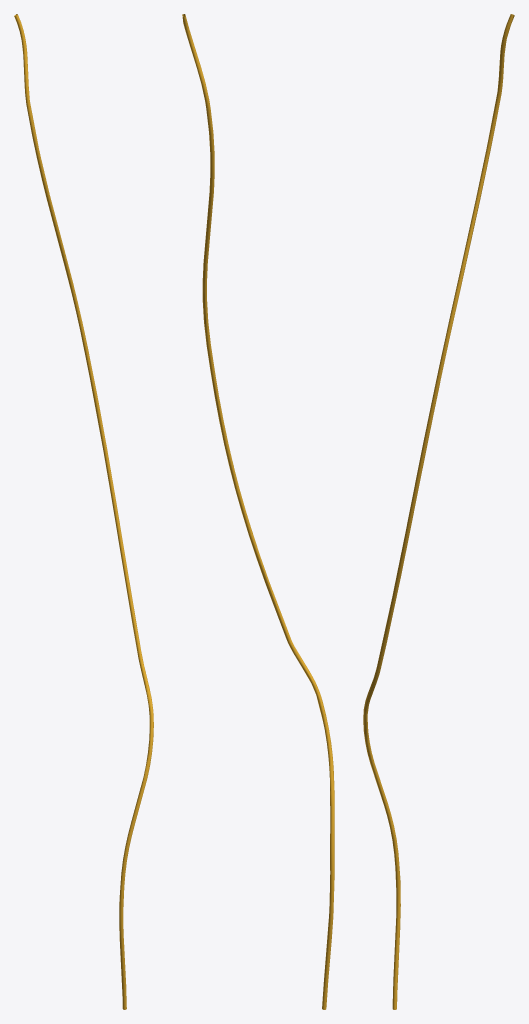
File: nervoso-genital-branch-of-genitofemoral-nerve-l.glb
3 views of the same model, side by side, from view 1: azimuth 90°, elevation 25°; view 2: azimuth 150°, elevation 25°; view 3: azimuth 270°, elevation 25° (orthographic). The views are drawn at different scales.
Visible parts, largest first — view 1: Genital branch of genitofemoral nerve.l; view 2: Genital branch of genitofemoral nerve.l; view 3: Genital branch of genitofemoral nerve.l.
Part boxes in pixels (x1,y1,x2,y2): Genital branch of genitofemoral nerve.l: [14, 14, 153, 1009]; Genital branch of genitofemoral nerve.l: [182, 14, 334, 1009]; Genital branch of genitofemoral nerve.l: [363, 14, 514, 1009].
Bounding box in the file's own units: 0.0286 × 0.2564 × 0.034.
